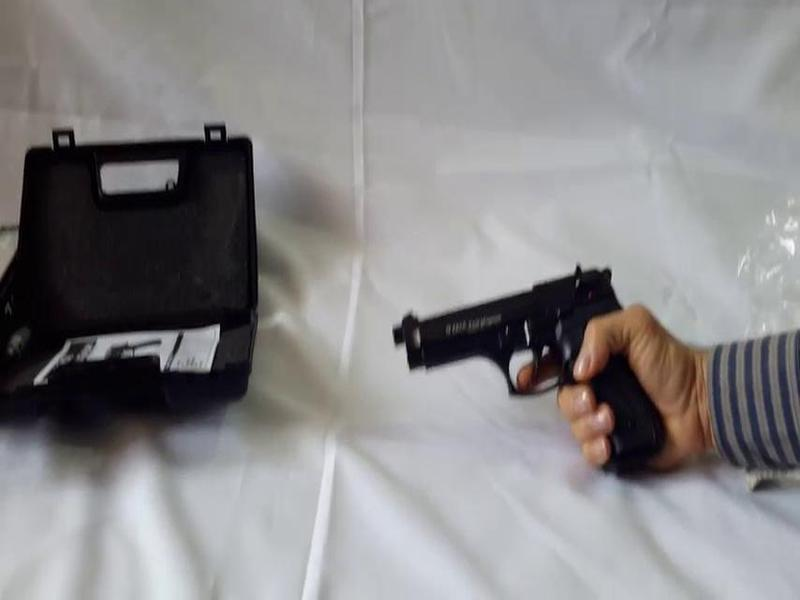Pistola: (367, 264, 704, 504)
